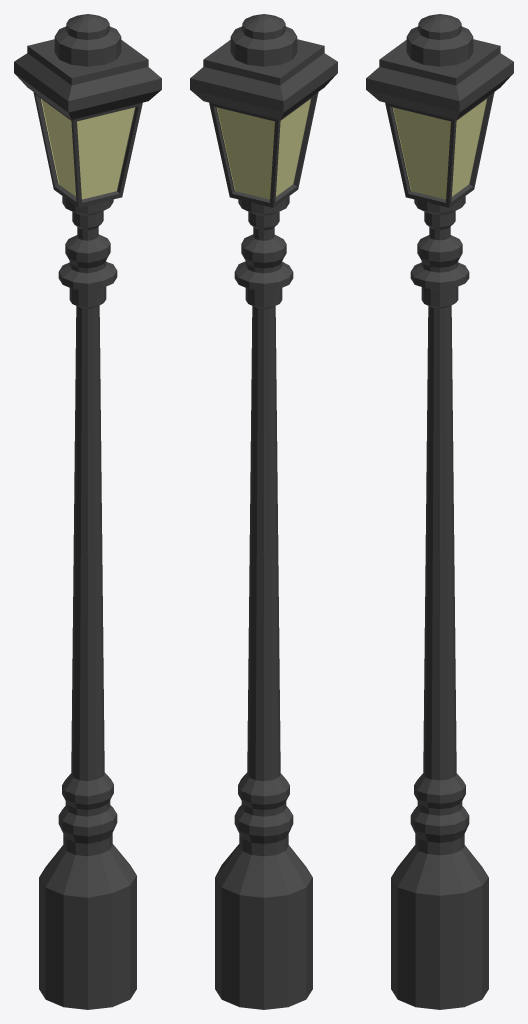
Rendered from street_lamp.fbx.
3 views of the same model, side by side, from view 1: azimuth 30°, elevation 25°; view 2: azimuth 150°, elevation 25°; view 3: azimuth 330°, elevation 25° (orthographic).
Parts seen in each view (by area): view 1: lamp_lamp_top_round, lamp_glass1; view 2: lamp_lamp_top_round, lamp_glass1; view 3: lamp_lamp_top_round, lamp_glass1.
Part boxes in pixels (x1,y1,x2,y2): lamp_lamp_top_round: (14,14,161,1009); lamp_glass1: (33,92,142,207); lamp_lamp_top_round: (190,14,337,1009); lamp_glass1: (209,92,318,207); lamp_lamp_top_round: (366,14,513,1009); lamp_glass1: (385,92,494,207).
Bounding box in the file's own units: 32.11 × 319 × 32.11.
